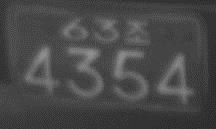3: (66, 45, 103, 97), (91, 16, 118, 44)
4: (155, 51, 194, 105), (23, 45, 62, 94)
5: (111, 50, 149, 102)
6: (61, 15, 89, 41)
조: (123, 18, 150, 46)
